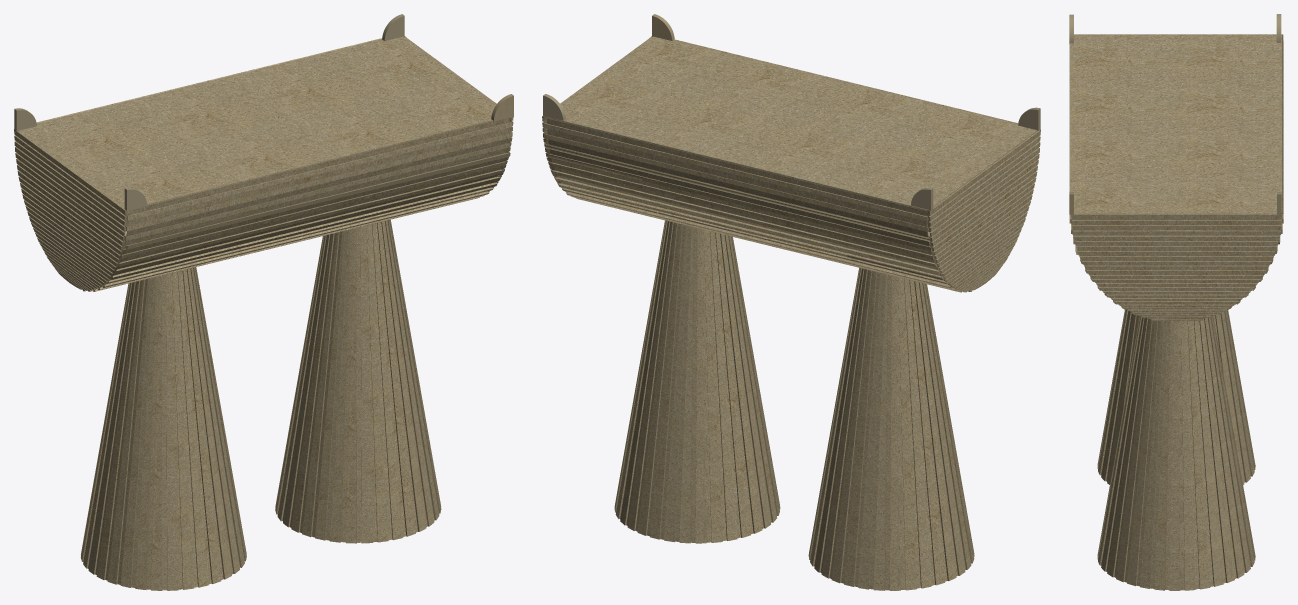
File: spomenikmitrovice.glb
3 views of the same model, side by side, from view 1: azimuth 30°, elevation 25°; view 2: azimuth 150°, elevation 25°; view 3: azimuth 270°, elevation 25° (orthographic). The views are drawn at different scales.
Visible parts, largest first — view 1: Cylinder.002, Circle.007, Circle.008; view 2: Cylinder.002, Circle.007, Circle.008; view 3: Cylinder.002, Circle.007, Circle.008.
Boxes of the visible parts, x1,y1,x2,y2 form: Cylinder.002: (14, 36, 513, 291); Circle.007: (275, 219, 441, 543); Circle.008: (80, 267, 246, 590); Cylinder.002: (542, 36, 1040, 292); Circle.007: (614, 220, 780, 543); Circle.008: (808, 268, 974, 590); Cylinder.002: (1069, 34, 1283, 321); Circle.007: (1097, 316, 1255, 590); Circle.008: (1097, 309, 1255, 484).
Size of the model in its own units: 19.15 by 20.23 by 9.61.
Materials: 2 (2 with a texture image).
